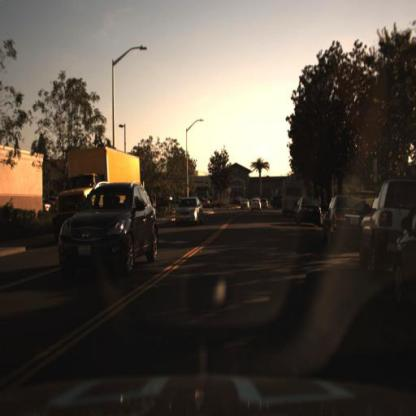car: (53, 171, 163, 271), (354, 177, 416, 283), (316, 193, 380, 245), (298, 197, 327, 228), (175, 195, 204, 224), (295, 197, 323, 226), (250, 196, 265, 216)
truck: (57, 141, 140, 230), (280, 176, 302, 216)
